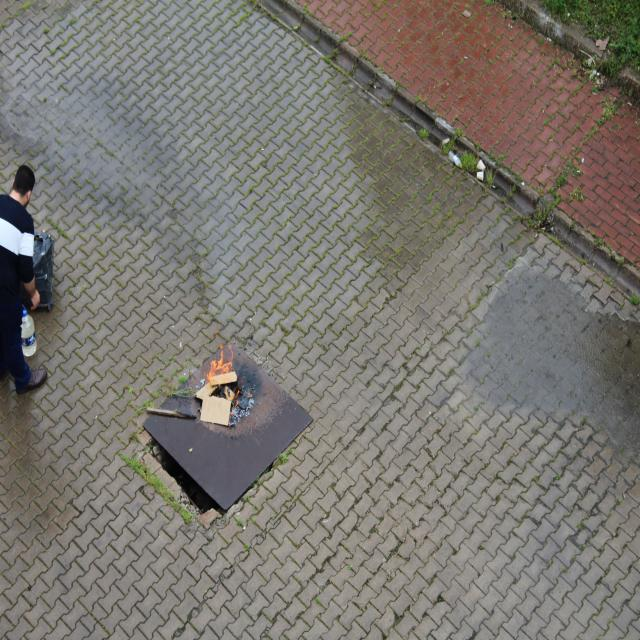fire: (204, 334, 240, 391)
